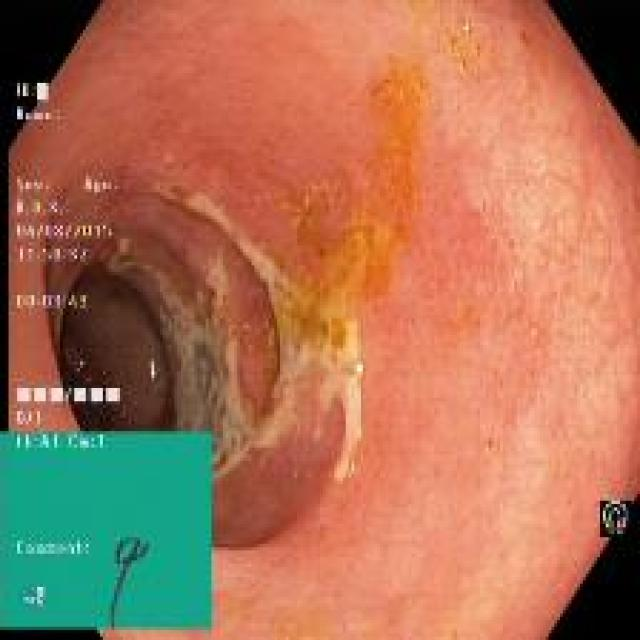ulcerative-colitis-grade-1: (15, 3, 640, 638)
